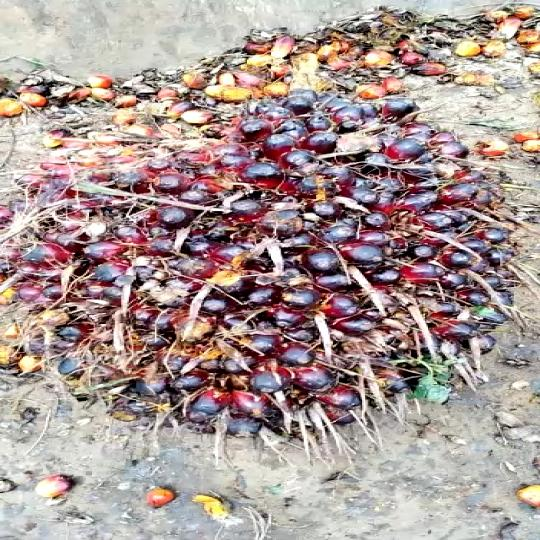kurang masak: (0, 85, 526, 456)
